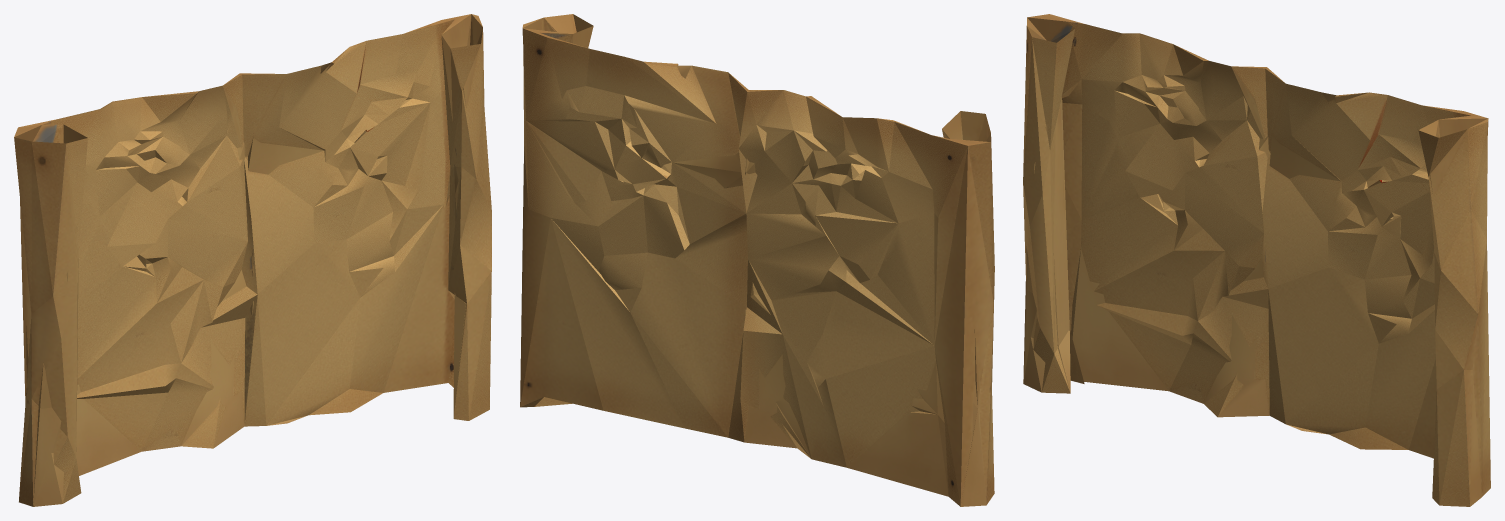
Rendered from map.glb.
3 views of the same model, side by side, from view 1: azimuth 30°, elevation 25°; view 2: azimuth 150°, elevation 25°; view 3: azimuth 330°, elevation 25° (orthographic).
Size of the model in its own units: 1.9 by 1.48 by 0.241.
1 material, 1 textured.
